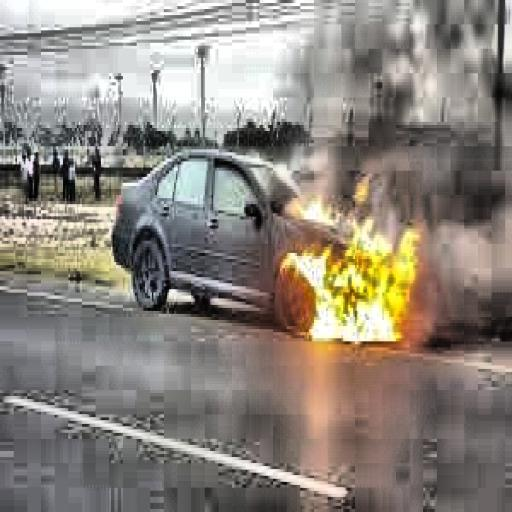fire: (275, 183, 428, 363)
